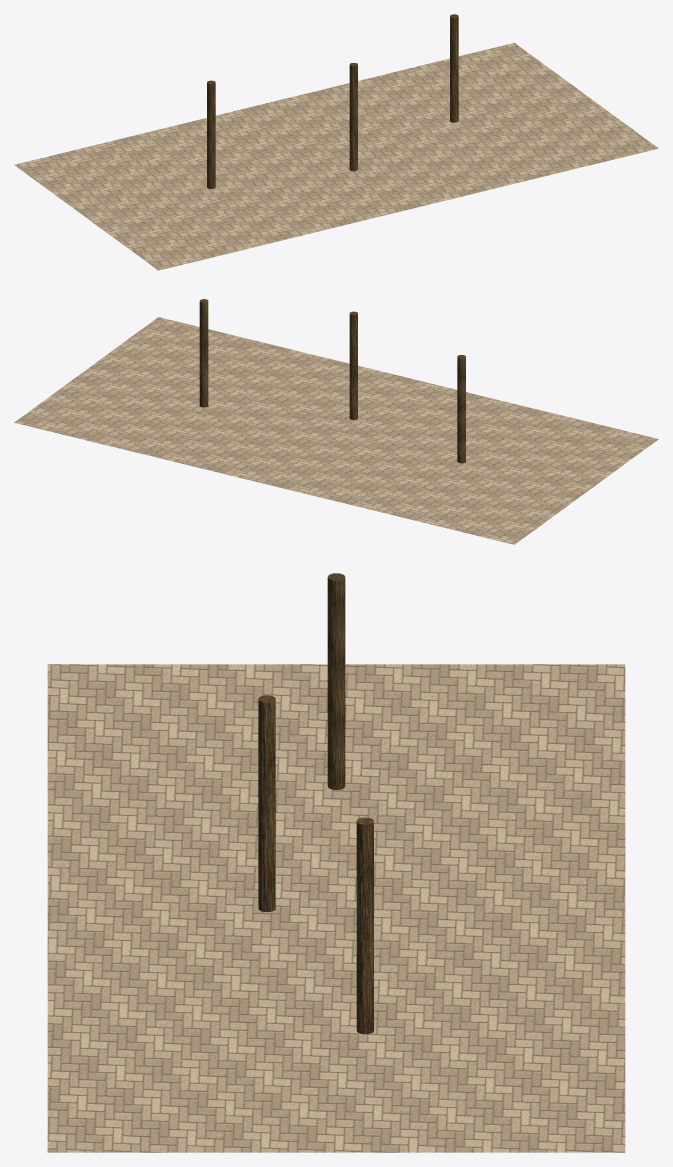
Rendered from obstacle_course.dae.
3 views of the same model, one above another, from view 1: azimuth 30°, elevation 25°; view 2: azimuth 150°, elevation 25°; view 3: azimuth 270°, elevation 25° (orthographic). The views are drawn at different scales.
Parts seen in each view (by area): view 1: Cylinder_002; view 2: Cylinder_002; view 3: Cylinder_002.
Part boxes in pixels (x1,y1,x2,y2): Cylinder_002: (14, 14, 658, 270); Cylinder_002: (14, 299, 658, 544); Cylinder_002: (47, 573, 625, 1152).
Bounding box in the file's own units: 20 × 10 × 4.
2 materials, 2 textured.
